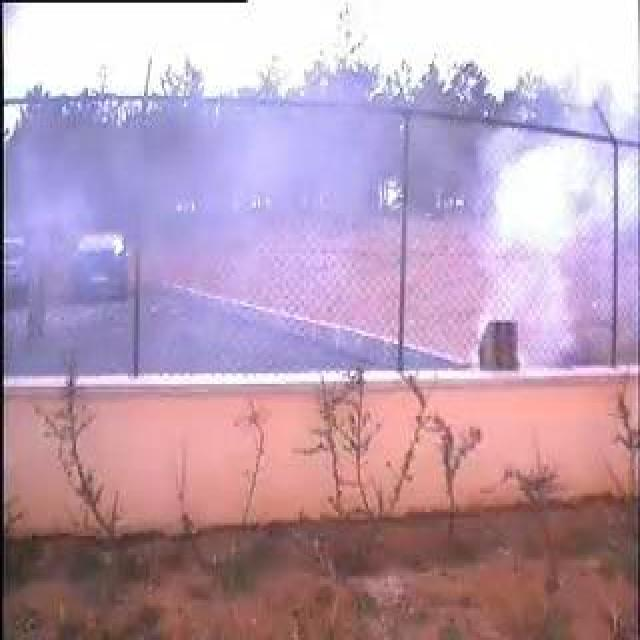Smoke: (448, 115, 618, 368)
